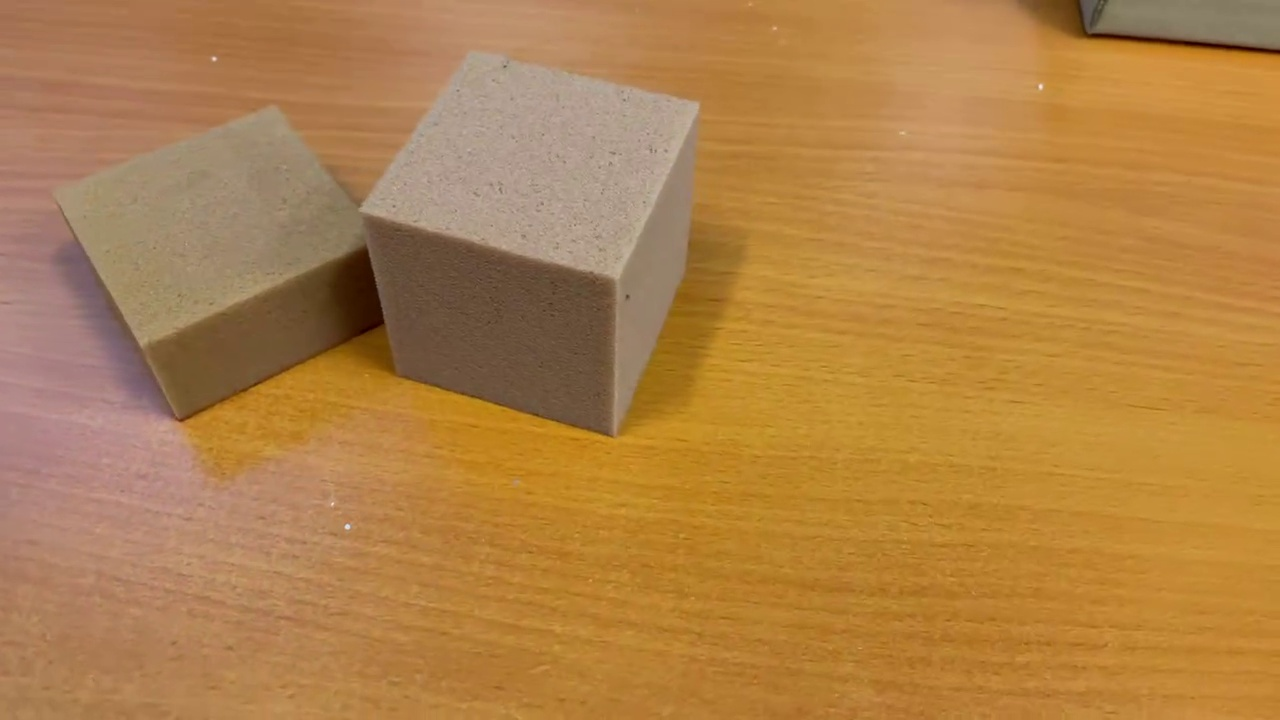Cube: (351, 45, 702, 440)
Cube_short: (48, 94, 387, 434)
